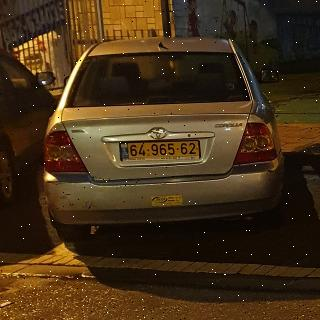LicensePlate: (128, 141, 199, 158)
